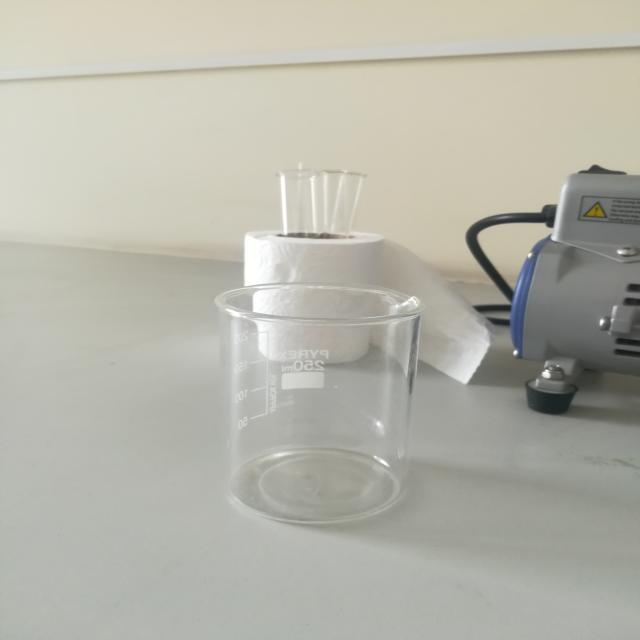Beaker: (181, 247, 482, 547)
